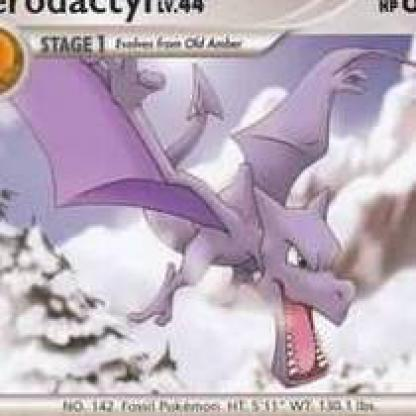Aerodactyl: (10, 43, 412, 390)
